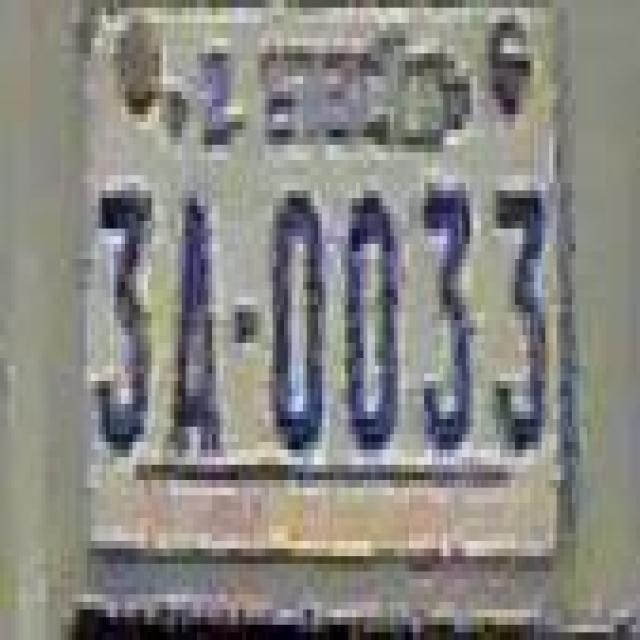Oudor_Meanchey: (201, 15, 460, 160)
